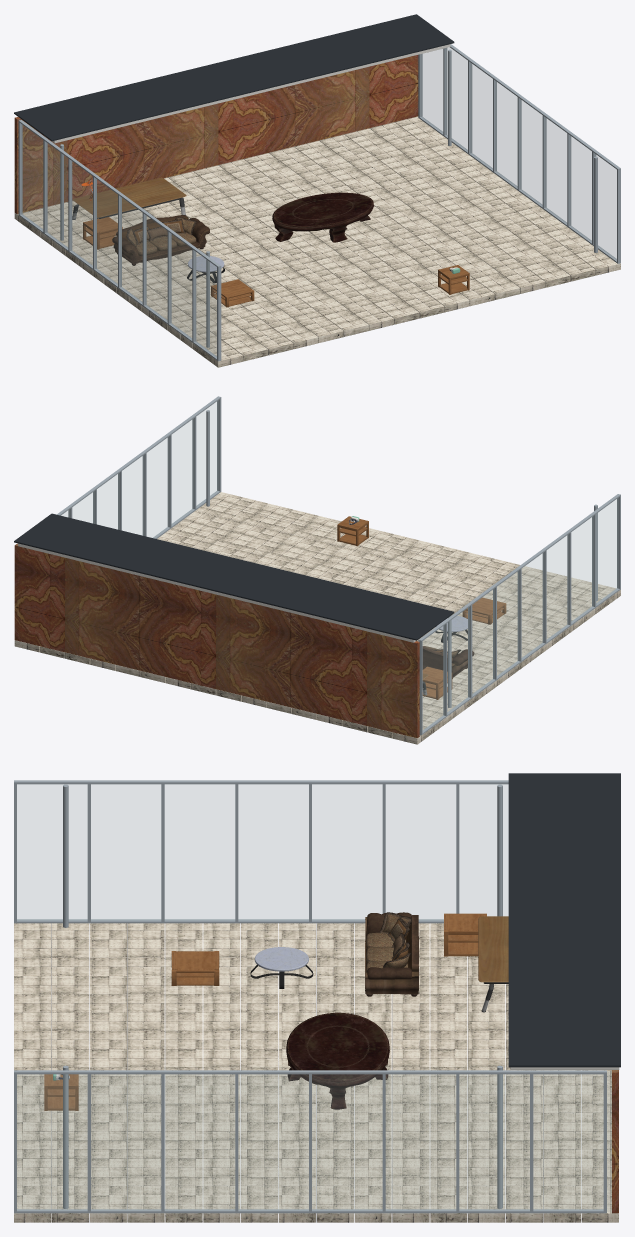
The model's file is room.glb.
3 renders of one model, top to bottom at view 1: azimuth 30°, elevation 25°; view 2: azimuth 150°, elevation 25°; view 3: azimuth 270°, elevation 25°, orthographic. The views are drawn at different scales.
Parts seen in each view (by area): view 1: XR_FLOOR, XR_ONYX_WALL, XR_REAR_CANOPY, XR_GLAZING_LEFT_1, XR_GLAZING_RIGHT_1, XR_GLAZING_LEFT, XR_GLAZING_RIGHT, SCYTHE_TABLE, XR_SOFA, MARIO_DESK, XR_SIDE_TABLE, XR_SIDE_TABLE_UPPER (+2 smaller); view 2: XR_ONYX_WALL, XR_FLOOR, XR_REAR_CANOPY, XR_GLAZING_LEFT_1, XR_GLAZING_RIGHT_1, XR_GLAZING_LEFT, XR_GLAZING_RIGHT, XR_SOFA, XR_HEADSET_STAND, XR_SIDE_TABLE, XR_SIDE_TABLE_UPPER; view 3: XR_FLOOR, XR_GLAZING_RIGHT_1, XR_GLAZING_LEFT_1, XR_REAR_CANOPY, XR_GLAZING_RIGHT, XR_GLAZING_LEFT, SCYTHE_TABLE, XR_SOFA, MARIO_DESK, XR_SIDE_TABLE, XR_SIDE_TABLE_UPPER, XR_COFFEE_TABLE (+6 smaller).
Boxes of the visible parts, box(x1,y1,x2,y2) form: XR_FLOOR: box(14, 116, 620, 367); XR_ONYX_WALL: box(14, 55, 418, 213); XR_REAR_CANOPY: box(14, 14, 454, 143); XR_GLAZING_LEFT_1: box(18, 119, 216, 356); XR_GLAZING_RIGHT_1: box(421, 47, 616, 259); XR_GLAZING_LEFT: box(18, 120, 221, 361); XR_GLAZING_RIGHT: box(418, 44, 620, 263); SCYTHE_TABLE: box(272, 192, 373, 242); XR_SOFA: box(112, 215, 209, 265); MARIO_DESK: box(72, 177, 186, 219); XR_SIDE_TABLE: box(211, 279, 254, 307); XR_SIDE_TABLE_UPPER: box(83, 217, 122, 249); XR_ONYX_WALL: box(14, 543, 419, 738); XR_FLOOR: box(14, 492, 620, 744); XR_REAR_CANOPY: box(14, 513, 454, 642); XR_GLAZING_LEFT_1: box(418, 499, 617, 730); XR_GLAZING_RIGHT_1: box(61, 401, 217, 537); XR_GLAZING_LEFT: box(418, 494, 620, 735); XR_GLAZING_RIGHT: box(57, 396, 221, 538); XR_SOFA: box(422, 646, 474, 678); XR_HEADSET_STAND: box(337, 516, 368, 546); XR_SIDE_TABLE: box(462, 597, 506, 624); XR_SIDE_TABLE_UPPER: box(422, 666, 452, 699); XR_FLOOR: box(14, 923, 618, 1222); XR_GLAZING_RIGHT_1: box(17, 1071, 611, 1212); XR_GLAZING_LEFT_1: box(17, 784, 508, 919); XR_REAR_CANOPY: box(508, 773, 620, 1069); XR_GLAZING_RIGHT: box(14, 1070, 606, 1213); XR_GLAZING_LEFT: box(14, 780, 508, 923); SCYTHE_TABLE: box(286, 1012, 389, 1109); XR_SOFA: box(365, 912, 418, 996); MARIO_DESK: box(478, 916, 508, 1012); XR_SIDE_TABLE: box(171, 951, 219, 985); XR_SIDE_TABLE_UPPER: box(444, 913, 486, 956); XR_COFFEE_TABLE: box(250, 947, 313, 988).
Bounding box in the file's own units: 16 × 4.02 × 14.05.
Materials: 21 (13 with a texture image).
